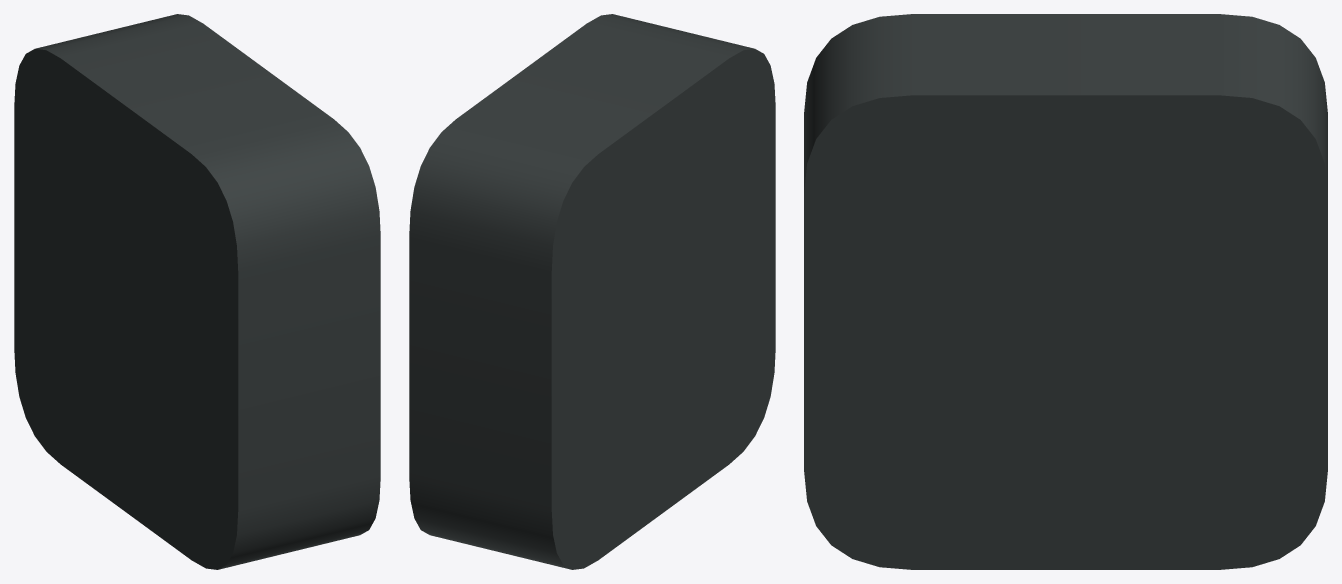
The model's file is CajaElectrica.fbx.
The picture shows the model from 3 angles, left to right: view 1: azimuth 30°, elevation 25°; view 2: azimuth 150°, elevation 25°; view 3: azimuth 270°, elevation 25°; orthographic projection. The views are drawn at different scales.
Parts seen in each view (by area): view 1: CajaElectrica; view 2: CajaElectrica; view 3: CajaElectrica.
Part boxes in pixels (x1=…): CajaElectrica: x1=14, y1=14, x2=380, y2=569; CajaElectrica: x1=409, y1=14, x2=775, y2=569; CajaElectrica: x1=804, y1=14, x2=1327, y2=569.
Bounding box in the file's own units: 3.99 × 10.86 × 10.86.
Materials: 1 (1 with a texture image).
